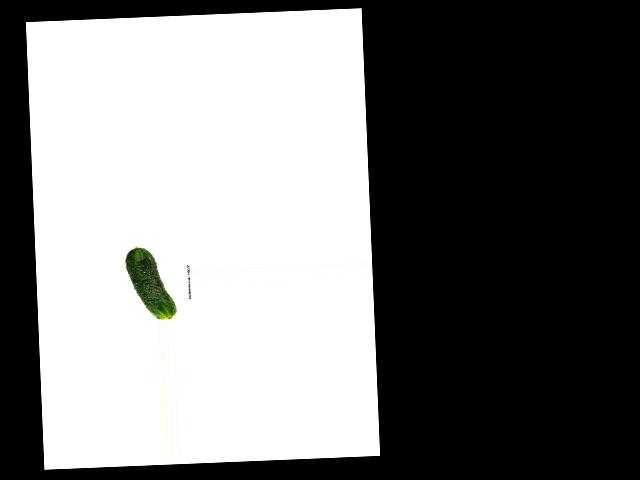cucumber: (125, 245, 176, 320)
